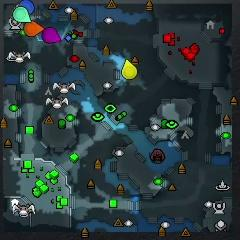p1: (19, 0, 34, 14)
p2: (13, 7, 31, 22)
p3: (43, 27, 60, 43)
p4: (122, 59, 137, 80)
p5: (24, 21, 44, 36)
